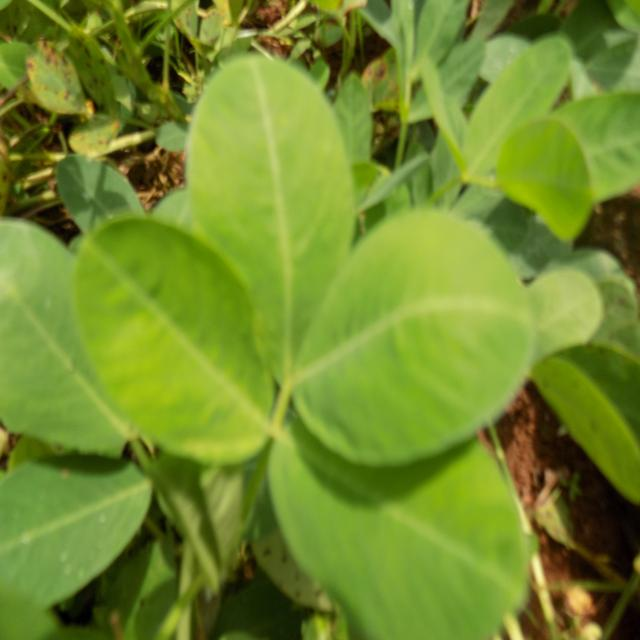Ground nut_healthy: (287, 214, 534, 469), (274, 405, 540, 640), (185, 55, 358, 386), (70, 207, 274, 465), (0, 445, 159, 605), (458, 40, 580, 182)
